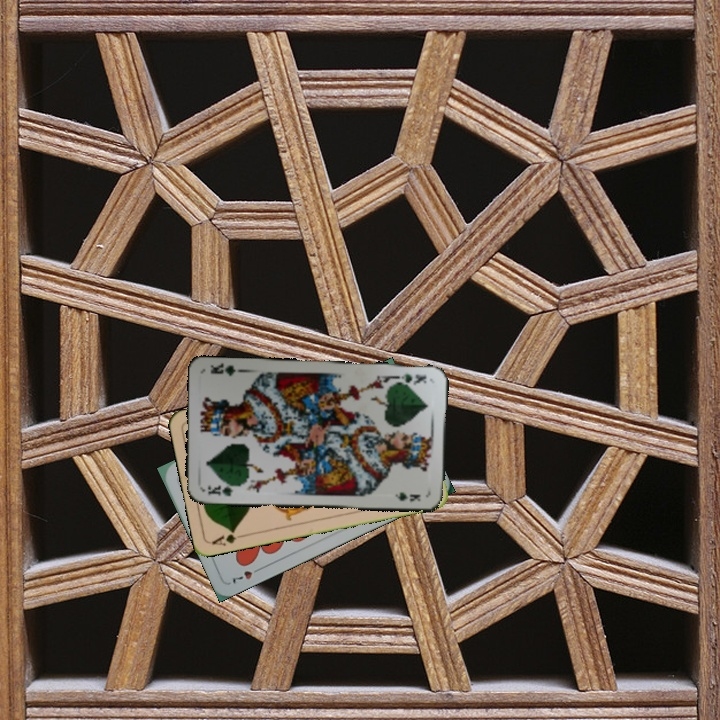GA: (208, 526, 248, 548)
GK: (204, 481, 240, 498), (392, 370, 429, 386)
H7: (228, 563, 265, 587)
